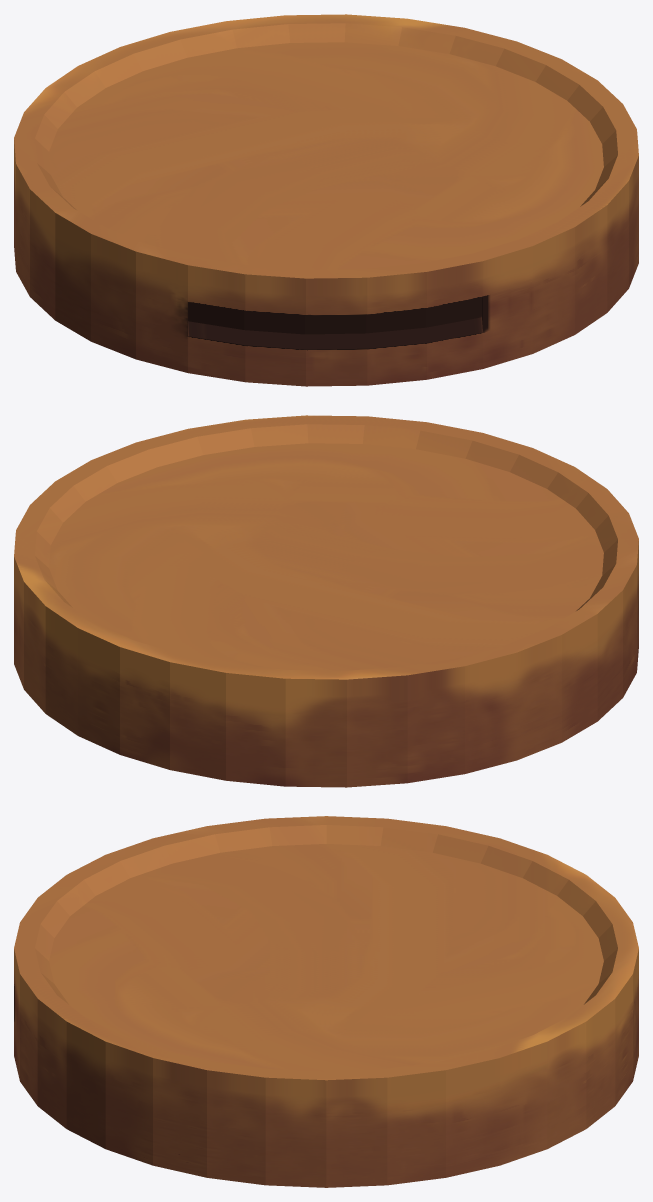
File: Platform.glb
3 views of the same model, one above another, from view 1: azimuth 30°, elevation 25°; view 2: azimuth 150°, elevation 25°; view 3: azimuth 270°, elevation 25° (orthographic).
Parts seen in each view (by area): view 1: Cylinder; view 2: Cylinder; view 3: Cylinder.
Boxes of the visible parts, left/top/right/bottom form: Cylinder: left=14, top=14, right=638, bottom=386; Cylinder: left=14, top=415, right=638, bottom=787; Cylinder: left=14, top=816, right=638, bottom=1187.
Size of the model in its own units: 12.5 by 2.38 by 12.5.
Materials: 1 (1 with a texture image).
